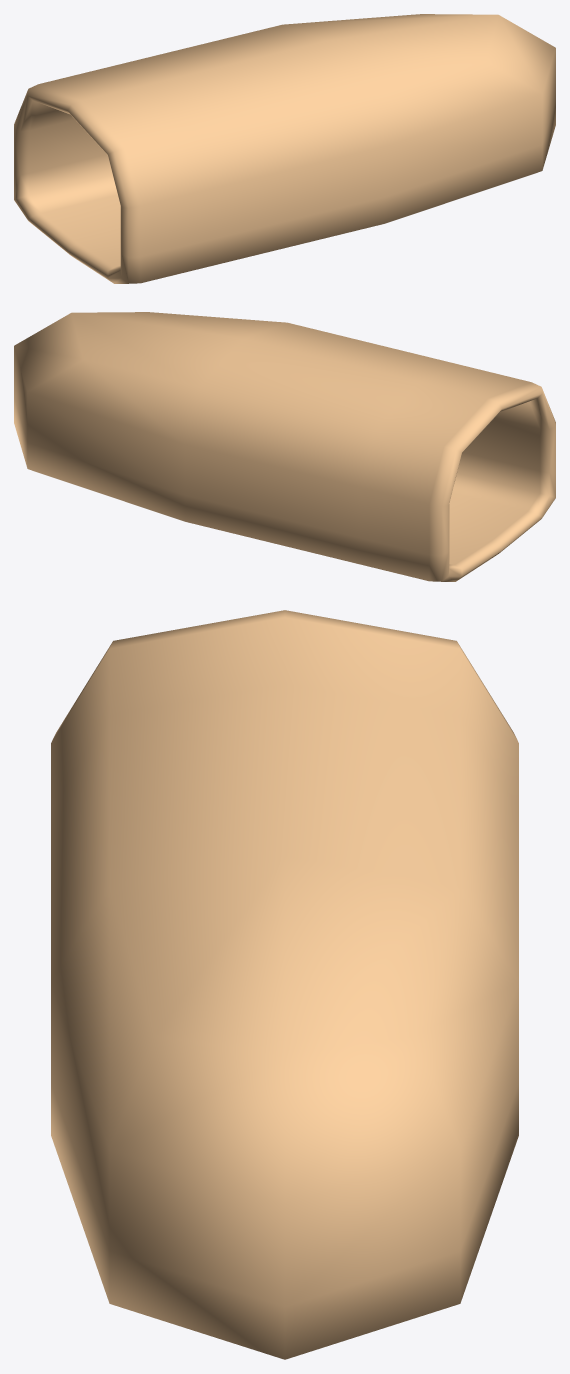
The model's file is Cave.fbx.
3 renders of one model, top to bottom at view 1: azimuth 30°, elevation 25°; view 2: azimuth 150°, elevation 25°; view 3: azimuth 270°, elevation 25°, orthographic. The views are drawn at different scales.
Visible parts, largest first — view 1: pCube1; view 2: pCube1; view 3: pCube1.
Boxes of the visible parts, x1,y1,x2,y2 form: pCube1: [14, 14, 555, 283]; pCube1: [14, 312, 555, 581]; pCube1: [51, 610, 518, 1359].
Bounding box in the file's own units: 10.31 × 4.28 × 3.11.
